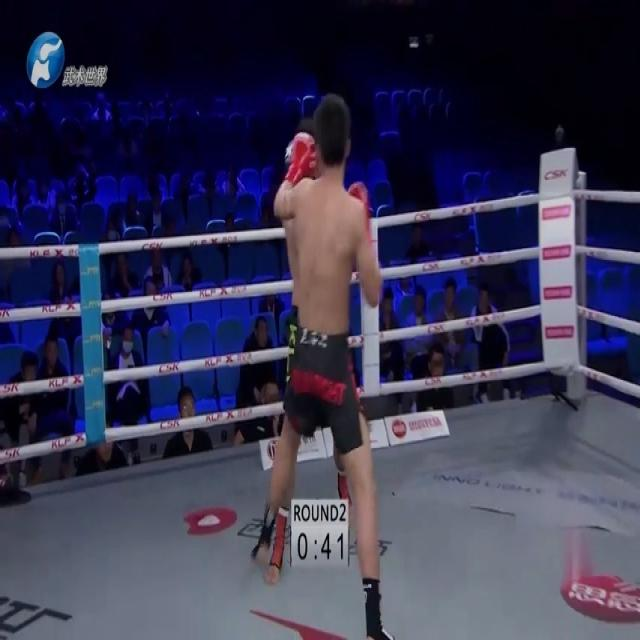fight: (254, 89, 396, 640)
